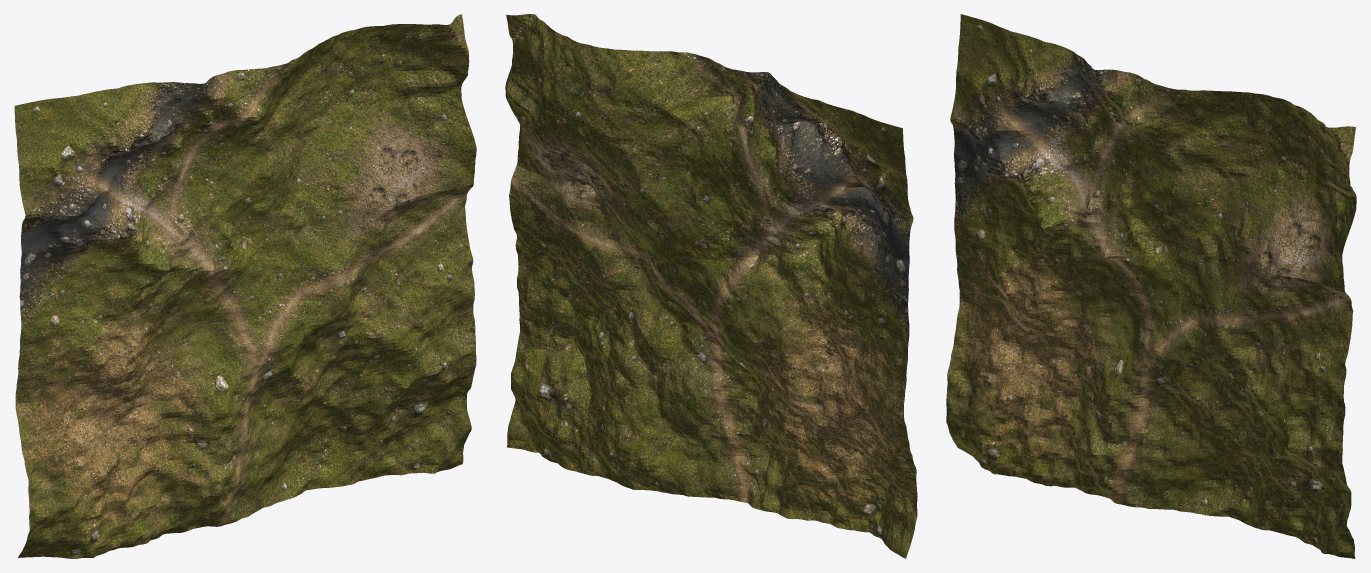
File: GreyMapV2Terrain.obj
The picture shows the model from 3 angles, left to right: view 1: azimuth 30°, elevation 25°; view 2: azimuth 150°, elevation 25°; view 3: azimuth 330°, elevation 25°; orthographic projection. The views are drawn at different scales.
Bounding box in the file's own units: 100 × 100 × 14.24.
1 material, 1 textured.
